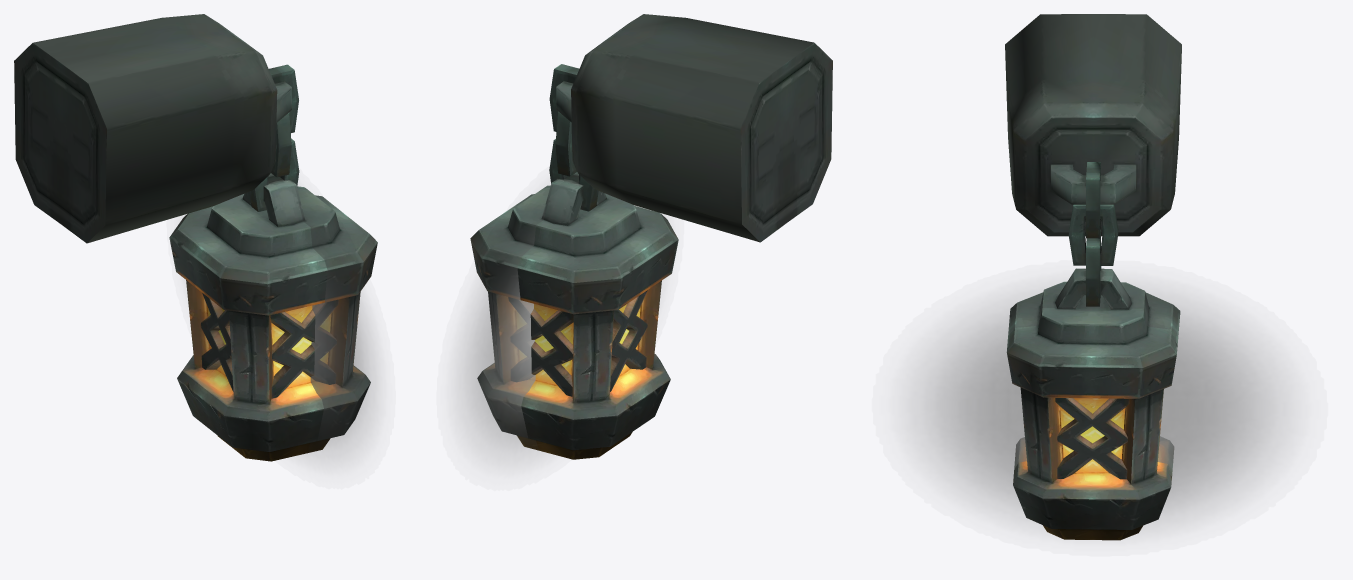
3 renders of one model, left to right at view 1: azimuth 30°, elevation 25°; view 2: azimuth 150°, elevation 25°; view 3: azimuth 270°, elevation 25°, orthographic. The views are drawn at different scales.
Size of the model in its own units: 1.96 by 3 by 2.91.
Materials: 4 (4 with a texture image).
